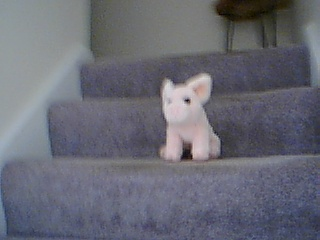piggy: (156, 70, 223, 163)
